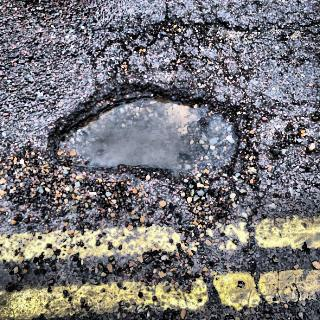pothole: (22, 78, 291, 201)
